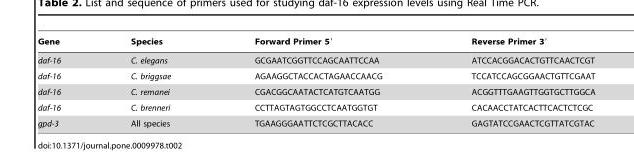table: (37, 36, 594, 127)
table column: (212, 36, 426, 127), (426, 36, 594, 127), (94, 36, 212, 127), (37, 36, 94, 127)
table column header: (37, 36, 594, 50)
table row: (37, 50, 594, 68), (37, 83, 594, 99), (37, 99, 594, 115), (37, 68, 594, 83), (37, 36, 594, 50), (37, 115, 594, 127)
